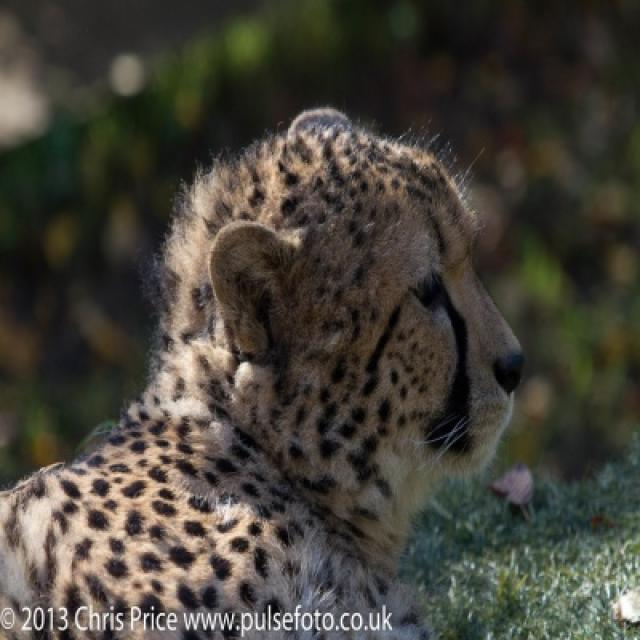Cheetah: (0, 109, 522, 638)
